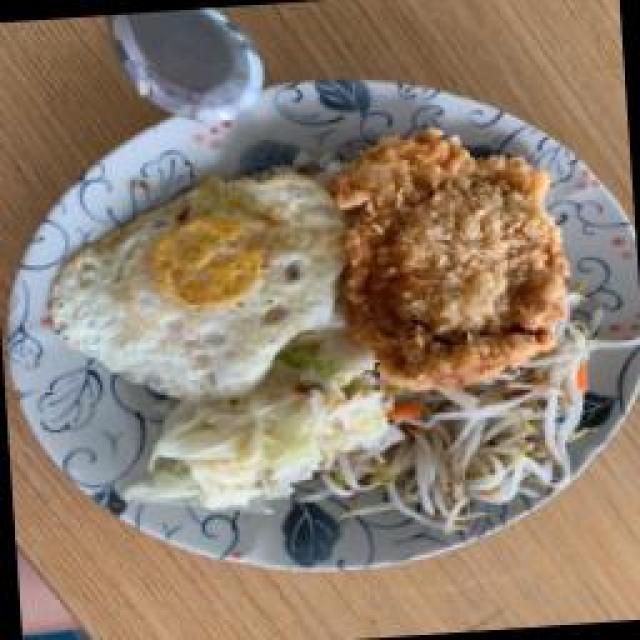chinese_cabbage: (122, 352, 390, 510)
fried_chicken: (328, 117, 573, 385)
fried_eggs: (43, 165, 348, 405)
mung_bean_sprouts: (395, 378, 588, 528)
